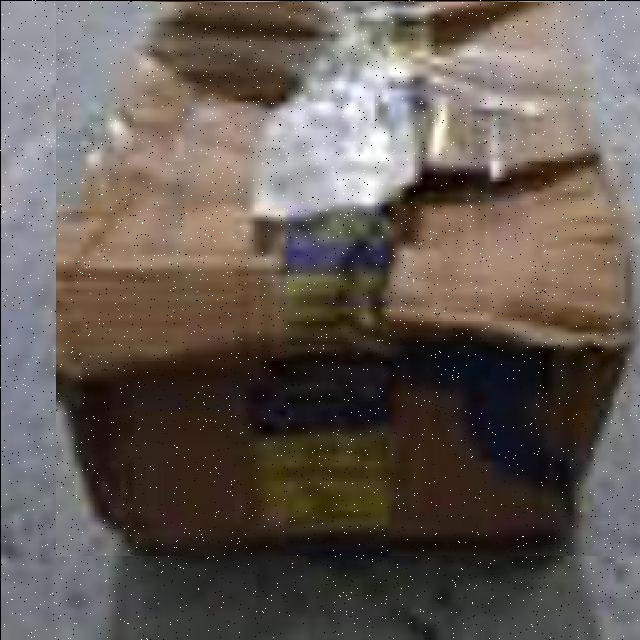defect: (55, 2, 640, 556)
